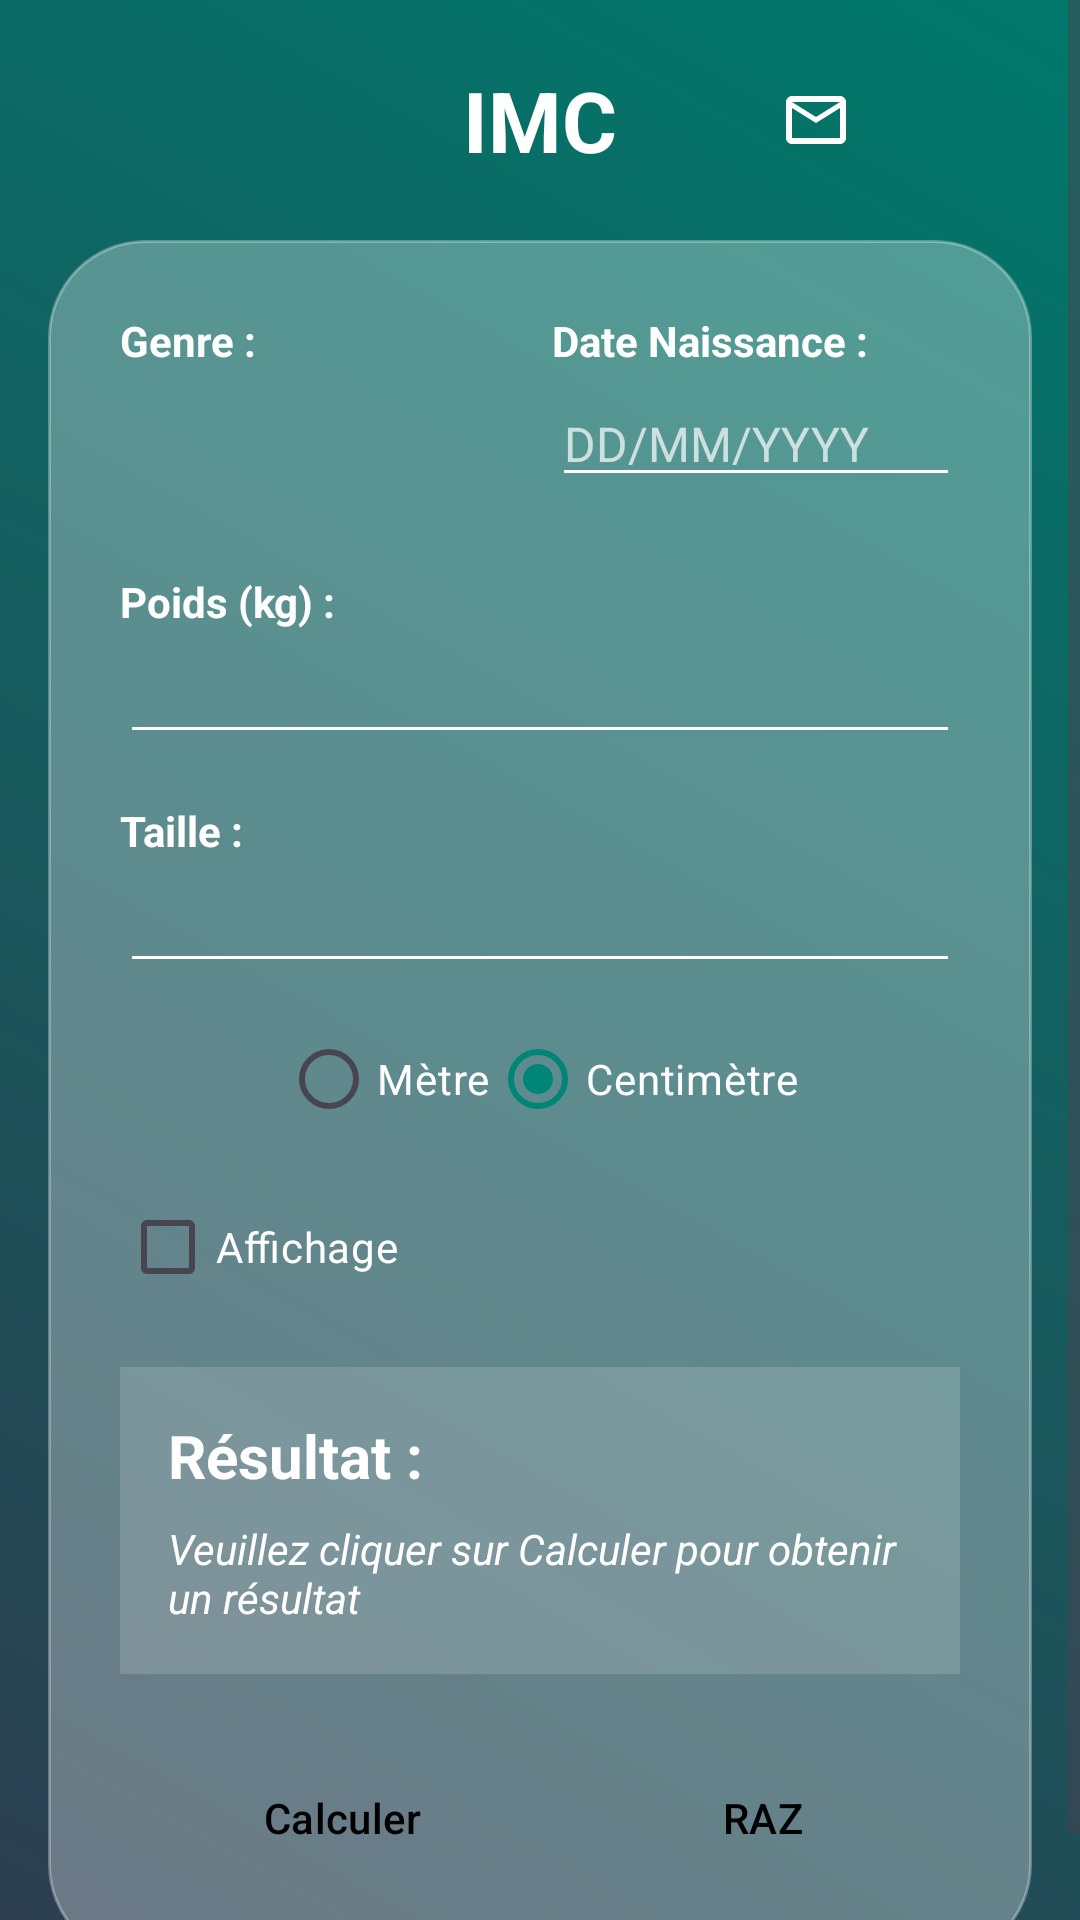

Where icons sit on this 1080 × 1920 app screen, as (x1, y1, x2, y2):
Envoyer par email: (786, 96, 846, 144)
